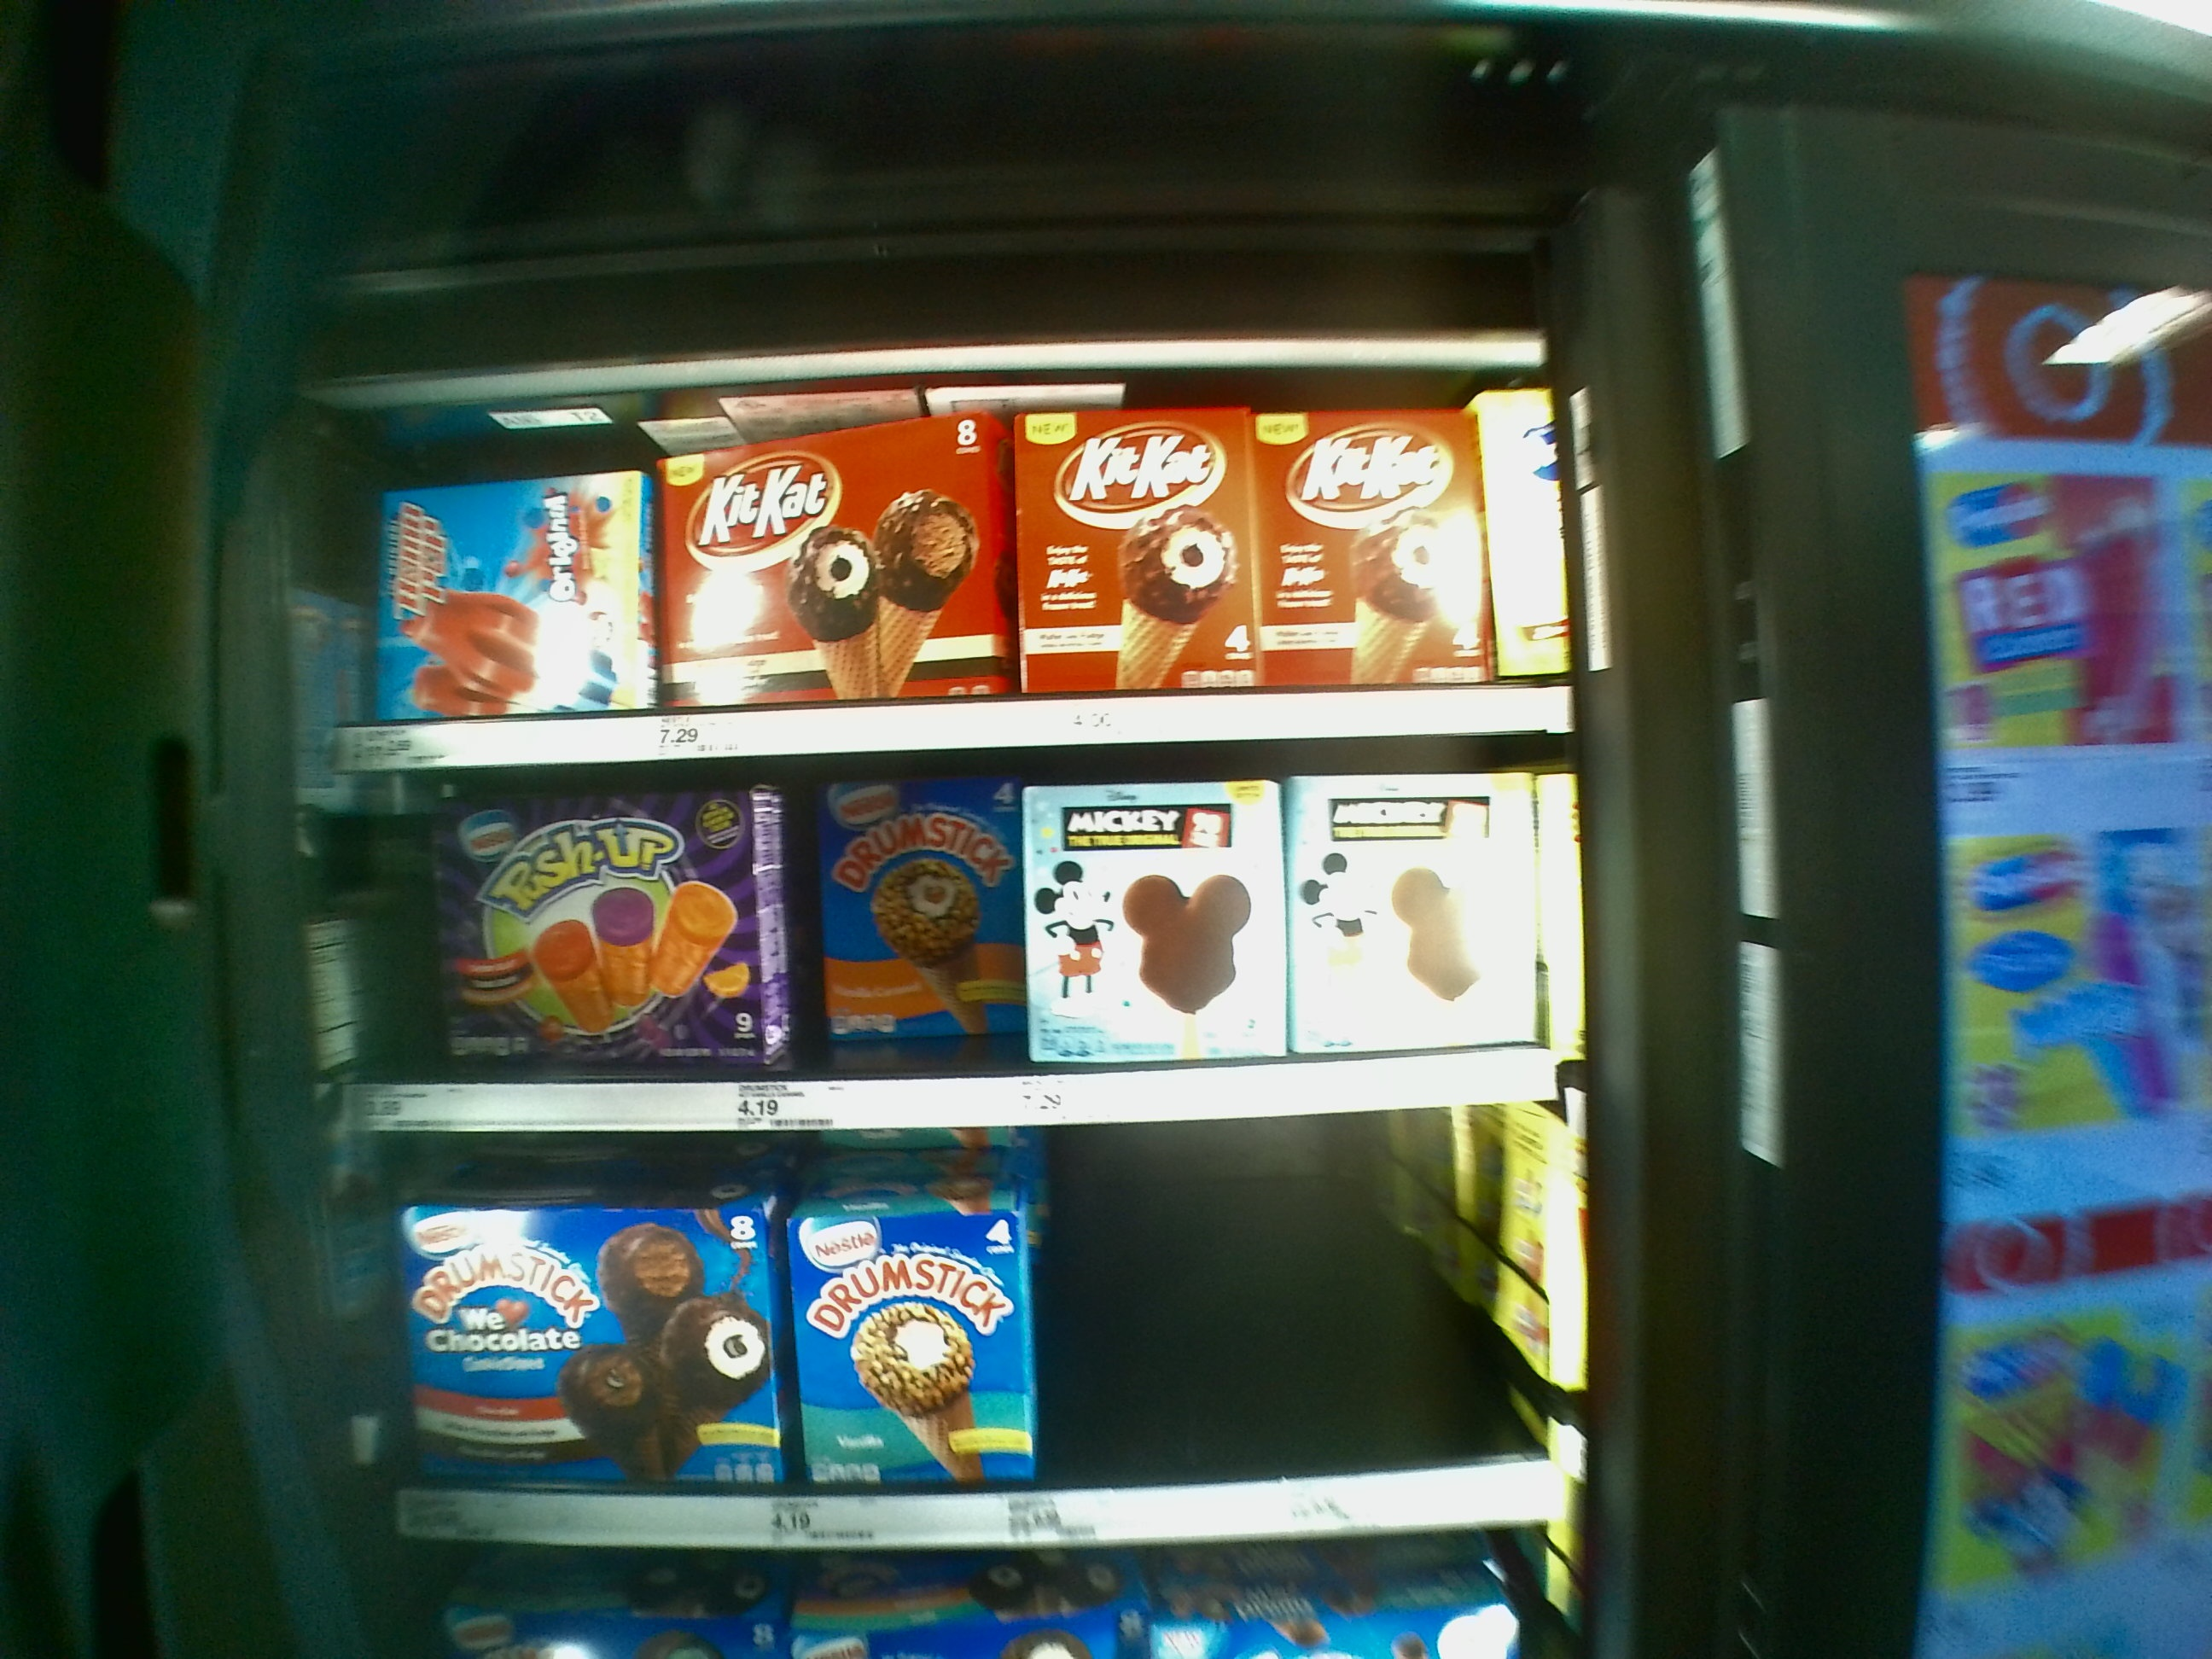shelf: (378, 1117, 1571, 1534), (345, 758, 1562, 1124), (329, 392, 1575, 749)
